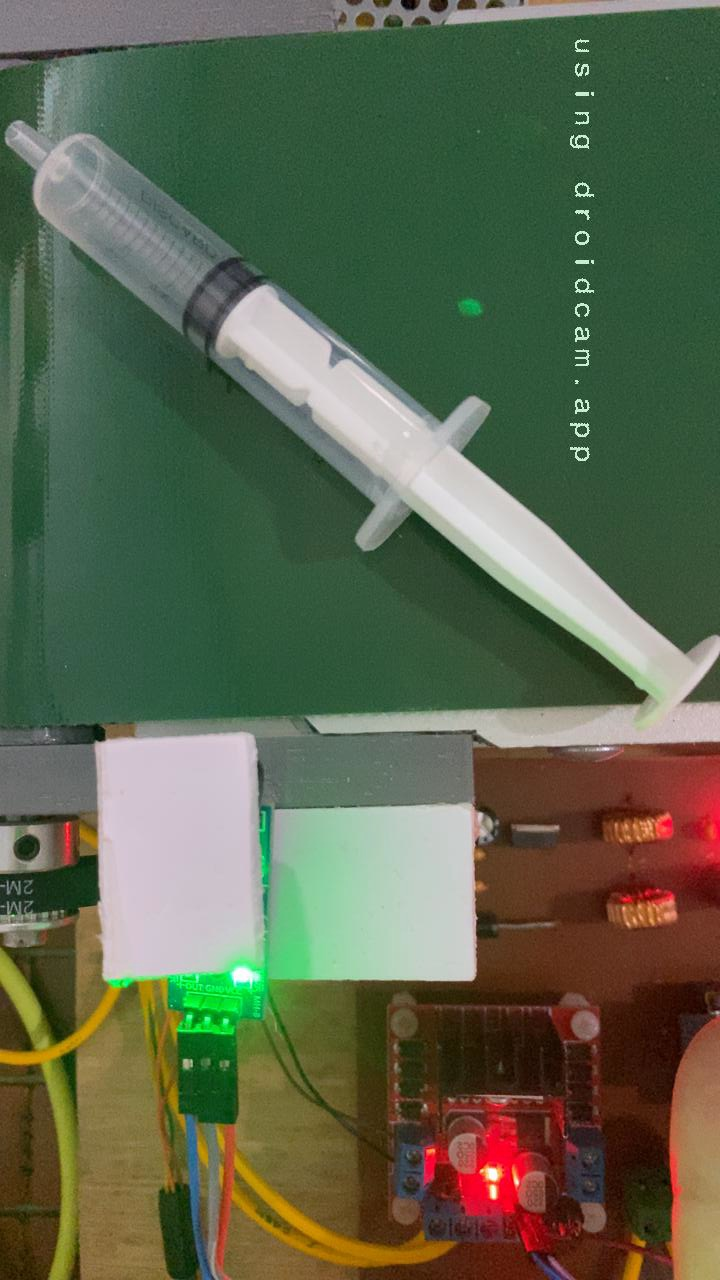syringe: (0, 99, 720, 715)
